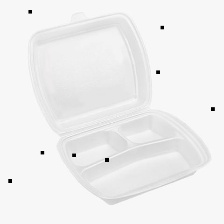foam_box: (20, 5, 215, 208)
